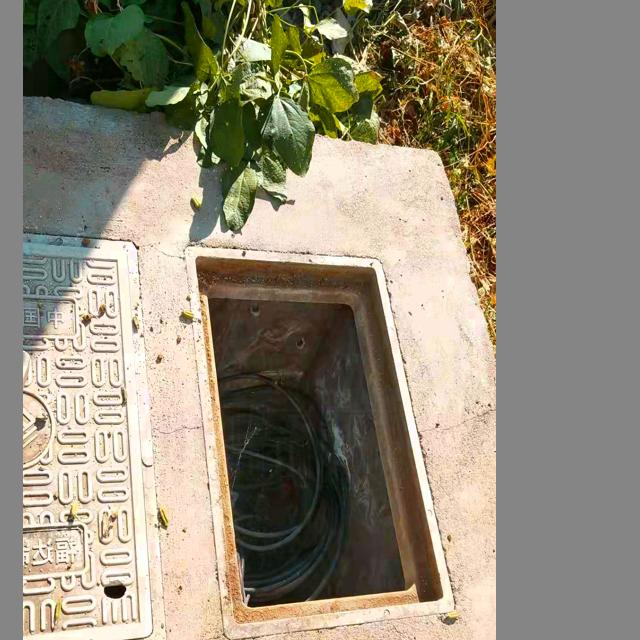lose: (186, 243, 456, 640)
